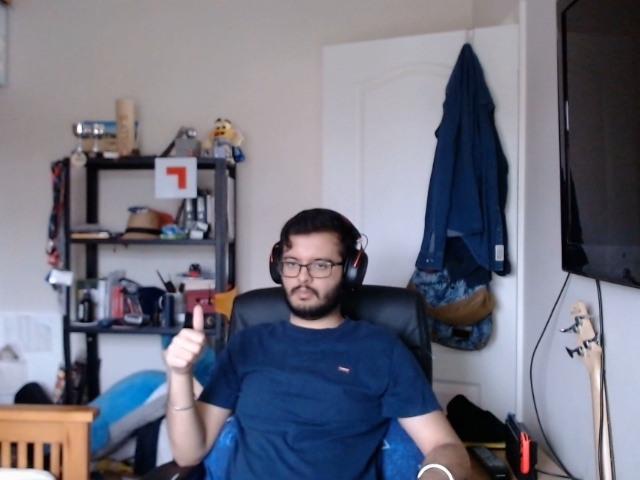Thumbs up: (152, 301, 219, 373)
